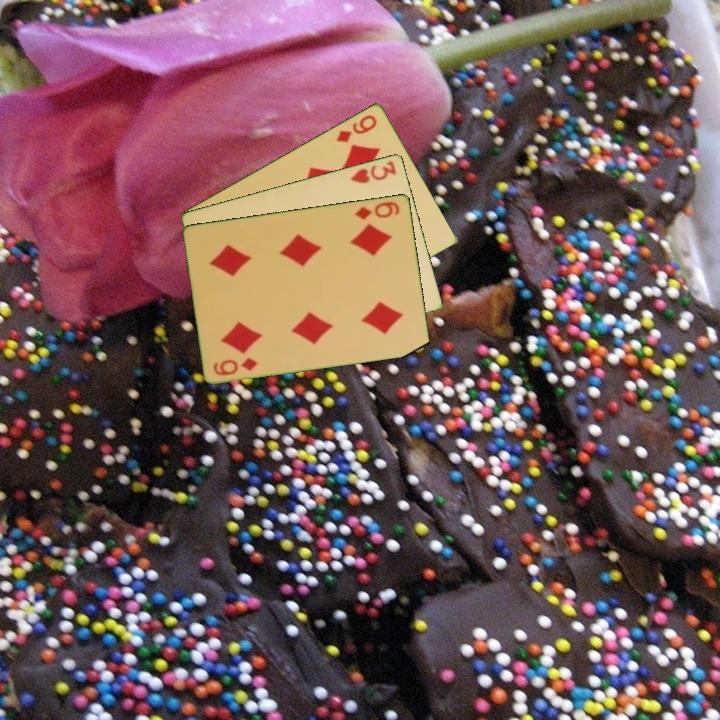3h: (347, 157, 400, 186)
6d: (210, 353, 261, 378), (352, 198, 403, 222)
9d: (333, 111, 380, 145)
